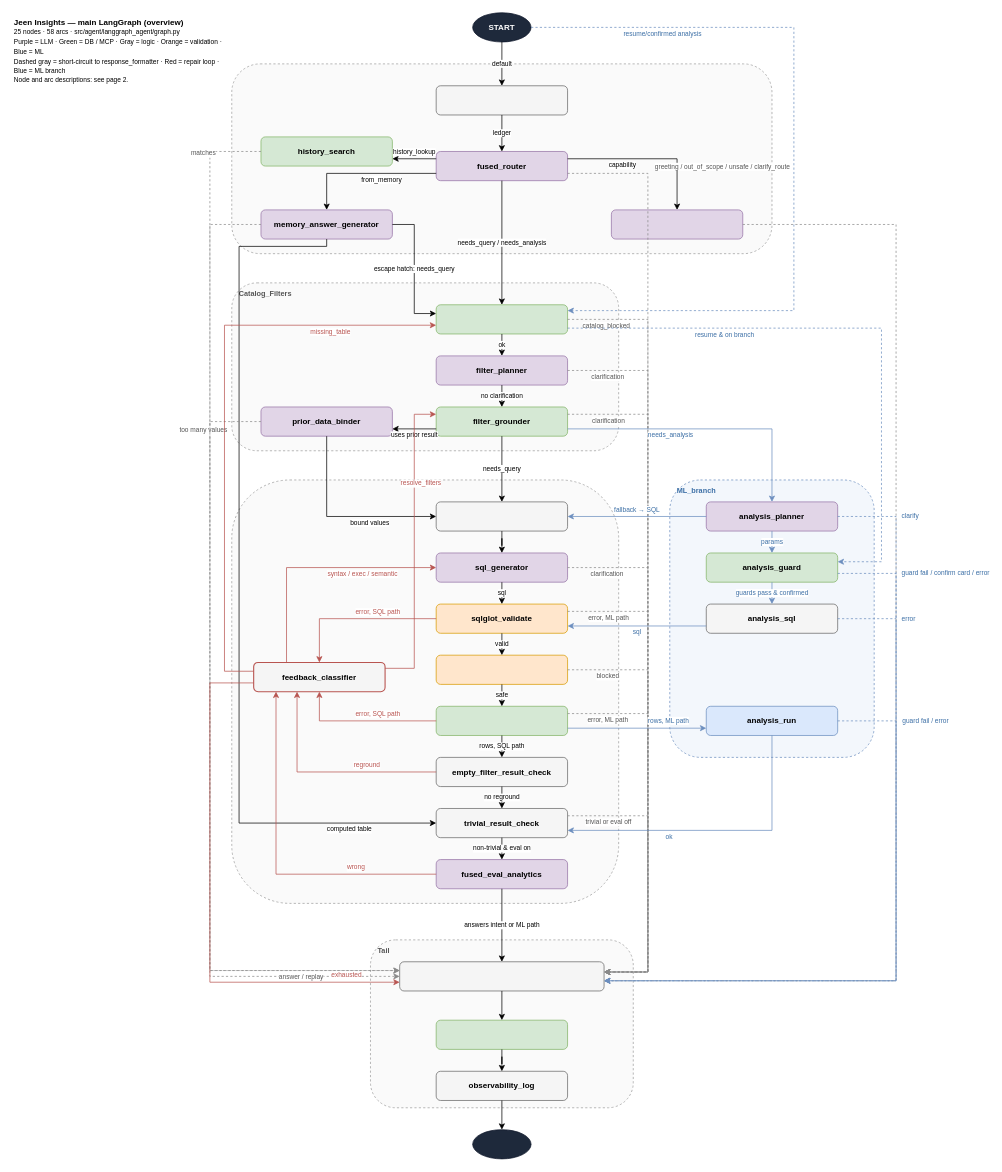
This 1002x1172 diagram has some shape labels left out. Here are the shapes that lost their labels. From the top down, the box of each, then its label:
(435, 85, 568, 115): context_composer
(231, 63, 772, 254): Memory_Routing
(611, 209, 743, 239): capability_answer
(435, 304, 568, 334): catalog_lookup
(435, 501, 568, 531): prompt_builder
(435, 654, 568, 684): dlp_check
(231, 479, 619, 903): SQL_Exec
(435, 706, 568, 735): execute_query
(399, 961, 604, 991): response_formatter
(435, 1019, 568, 1049): save_to_memory
(472, 1129, 531, 1159): END
